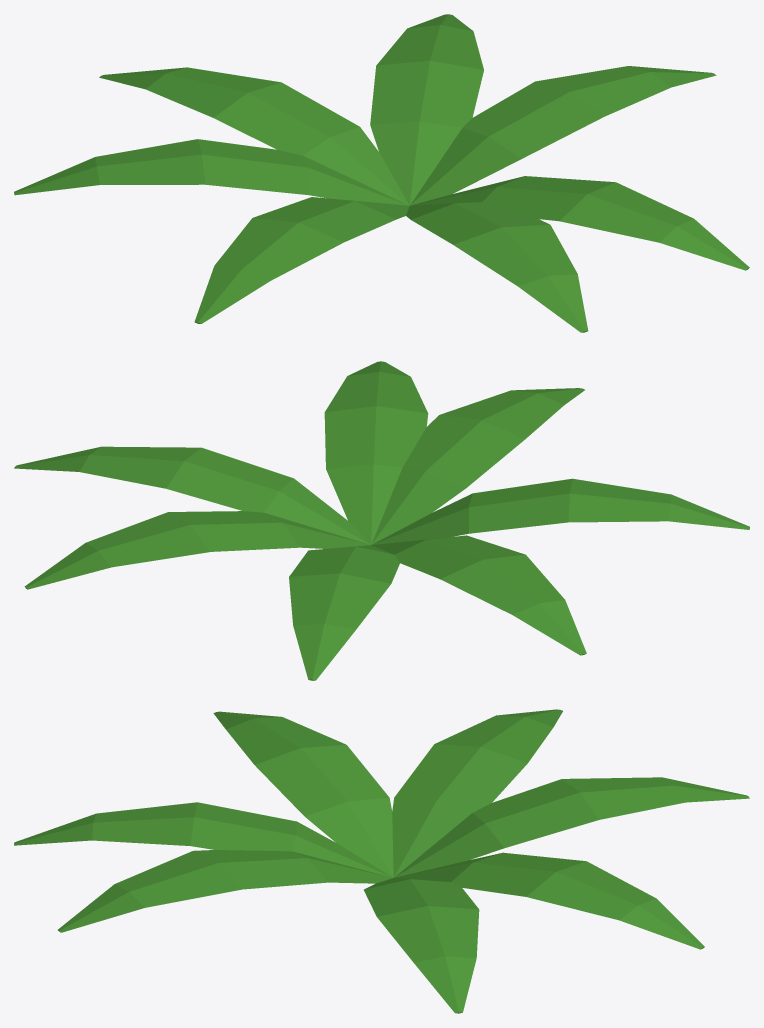
The model's file is nature2_fern.glb.
3 renders of one model, top to bottom at view 1: azimuth 30°, elevation 25°; view 2: azimuth 150°, elevation 25°; view 3: azimuth 270°, elevation 25°, orthographic. The views are drawn at different scales.
Parts seen in each view (by area): view 1: fern; view 2: fern; view 3: fern.
Part boxes in pixels (box(x1,y1,x2,y2)): fern: box(14, 14, 749, 332); fern: box(14, 361, 749, 680); fern: box(14, 709, 749, 1013).
Size of the model in its own units: 1.8 by 0.1612 by 1.84.
